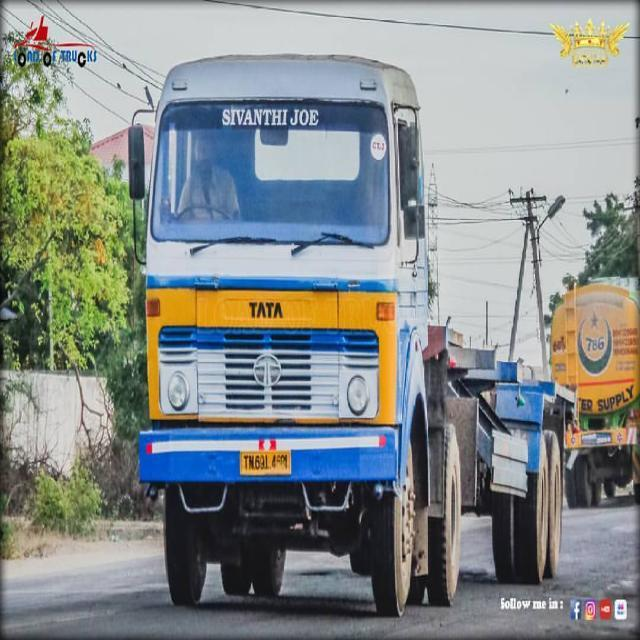Truck: (116, 47, 581, 621), (536, 272, 640, 510)
